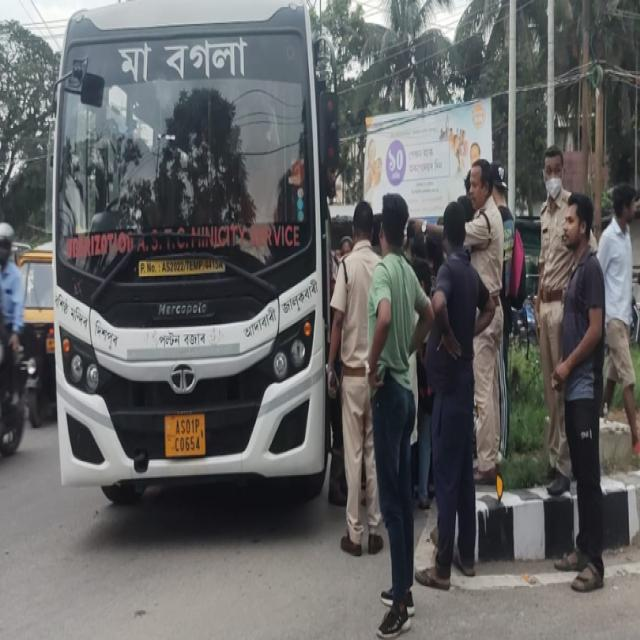Autorickshaw: (16, 235, 54, 430)
Bike: (0, 223, 22, 470)
Bus: (48, 0, 339, 516)
